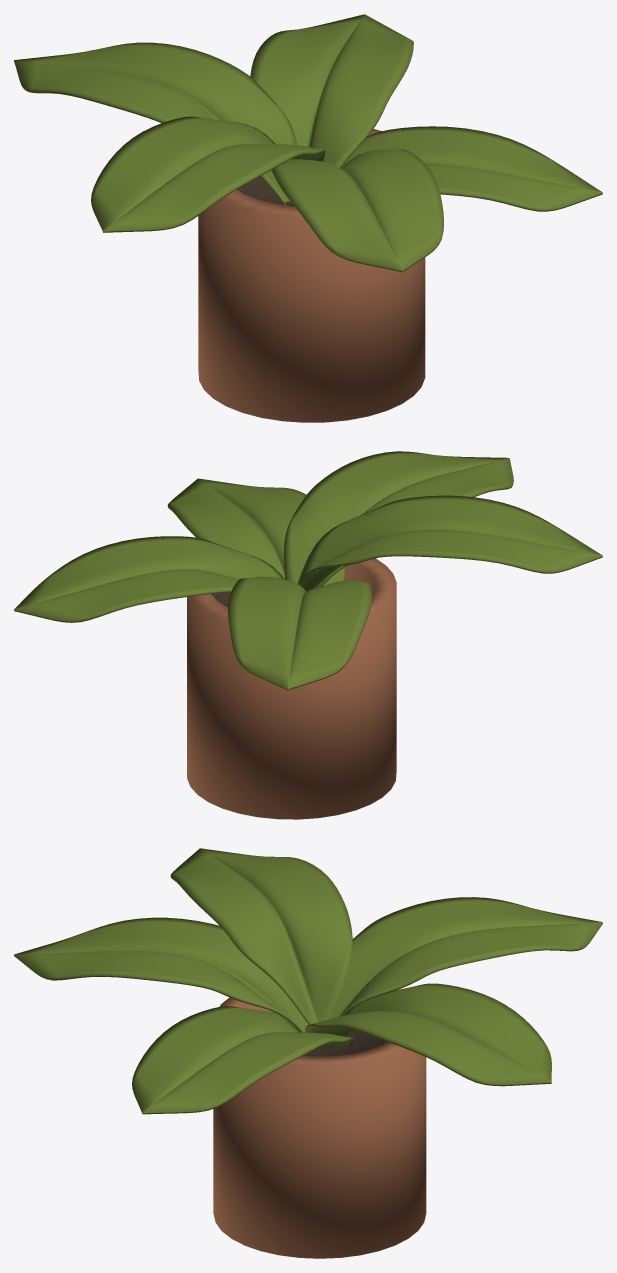
The model's file is plant_table.fbx.
The picture shows the model from 3 angles, top to bottom: view 1: azimuth 30°, elevation 25°; view 2: azimuth 150°, elevation 25°; view 3: azimuth 270°, elevation 25°; orthographic projection. The views are drawn at different scales.
Parts seen in each view (by area): view 1: ruukku, lehti3, lehti, lehti2, lehti4, lehti5; view 2: ruukku, lehti3, lehti, lehti2, lehti4, lehti5; view 3: ruukku, lehti3, lehti2, lehti, lehti4, lehti5.
Boxes of the visible parts, left/top/right/bottom form: ruukku: left=198, top=129, right=425, bottom=422; lehti3: left=91, top=116, right=325, bottom=232; lehti: left=250, top=14, right=413, bottom=167; lehti2: left=14, top=42, right=296, bottom=205; lehti4: left=271, top=149, right=443, bottom=272; lehti5: left=289, top=126, right=602, bottom=211; ruukku: left=187, top=558, right=396, bottom=819; lehti3: left=297, top=495, right=602, bottom=591; lehti: left=14, top=536, right=284, bottom=622; lehti2: left=228, top=576, right=371, bottom=690; lehti4: left=284, top=451, right=513, bottom=589; lehti5: left=167, top=478, right=344, bottom=586; ruukku: left=213, top=997, right=426, bottom=1258; lehti3: left=170, top=848, right=352, bottom=1024; lehti2: left=334, top=897, right=602, bottom=1017; lehti: left=305, top=983, right=551, bottom=1086; lehti4: left=14, top=917, right=318, bottom=1049; lehti5: left=132, top=1006, right=353, bottom=1114.
Bounding box in the file's own units: 34.72 × 19.85 × 40.32.
